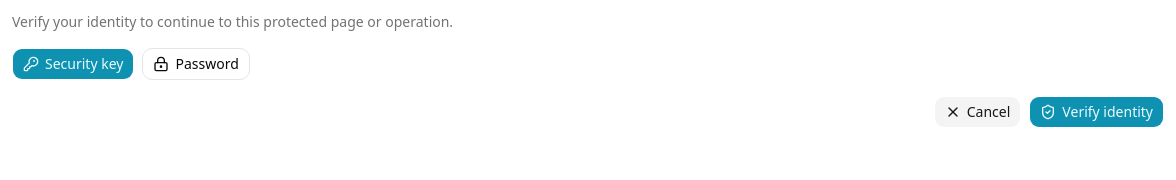
Test: SudoConfirmation › does not continue when the challenge expires
This screenshot has width=1176, height=180.
Click the button "Verify identity": (1097, 112) [1029,96,1164,128]
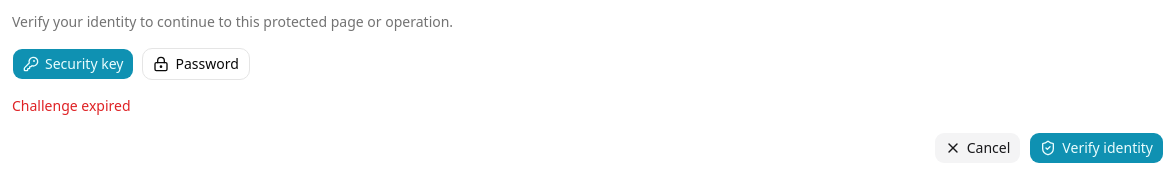
Now the message reads "Challenge expired", box [12,96,130,115]
